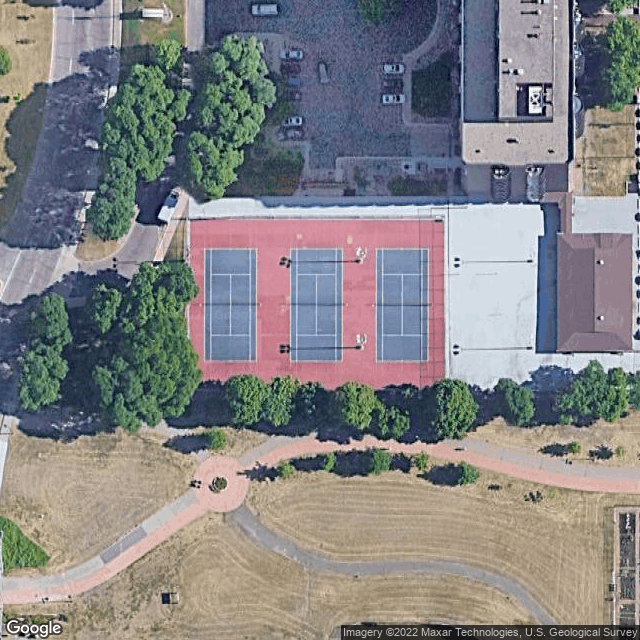Court: (372, 247, 430, 363), (202, 247, 259, 363), (288, 247, 345, 363)
